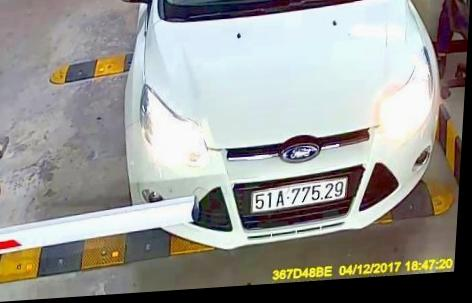License_Plate: (251, 176, 350, 212)
